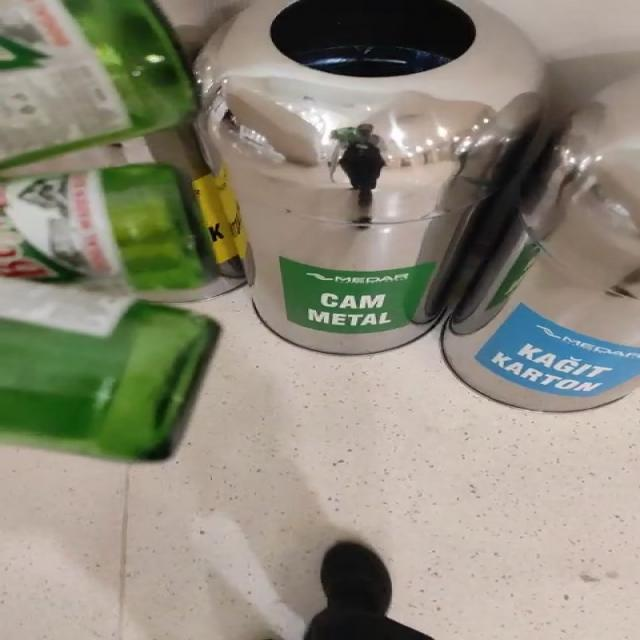bin: (196, 0, 545, 353)
glass: (1, 164, 216, 461), (1, 0, 193, 167)
